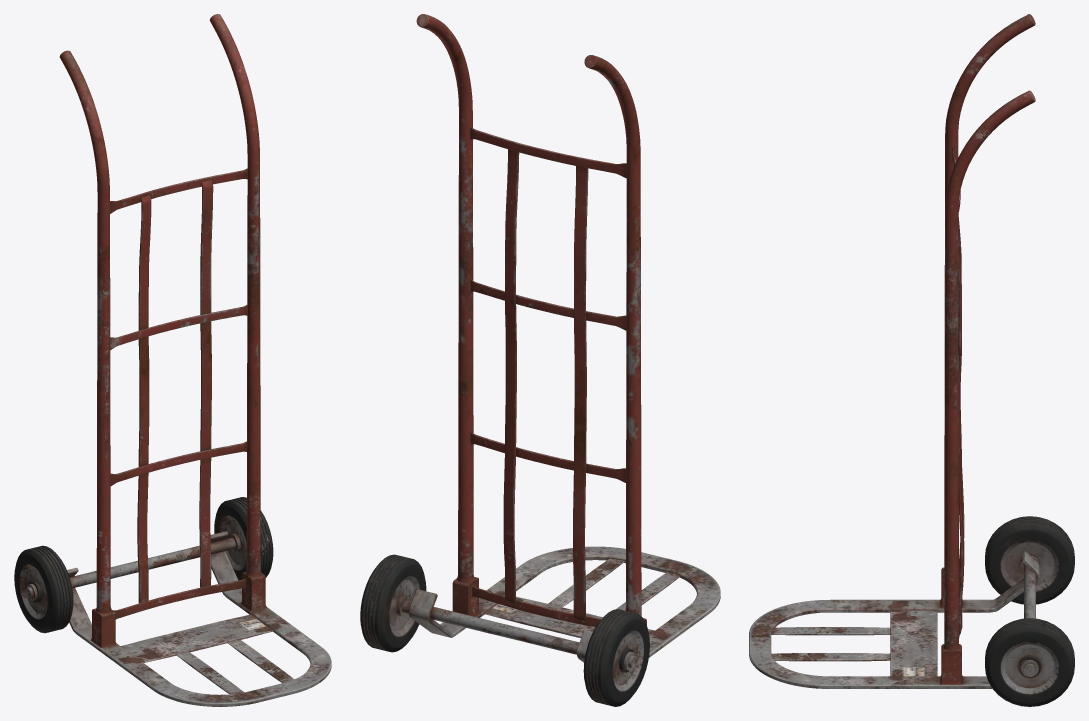
The model's file is PH-hand_truck.glb.
3 views of the same model, side by side, from view 1: azimuth 30°, elevation 25°; view 2: azimuth 150°, elevation 25°; view 3: azimuth 270°, elevation 25° (orthographic). The views are drawn at different scales.
Parts seen in each view (by area): view 1: hand_truck; view 2: hand_truck; view 3: hand_truck.
Part boxes in pixels (left/top/right/bottom): hand_truck: left=14, top=14, right=331, bottom=706; hand_truck: left=360, top=14, right=720, bottom=706; hand_truck: left=749, top=14, right=1074, bottom=706.
Bounding box in the file's own units: 0.5933 × 1.4 × 0.6926.
Materials: 1 (1 with a texture image).
